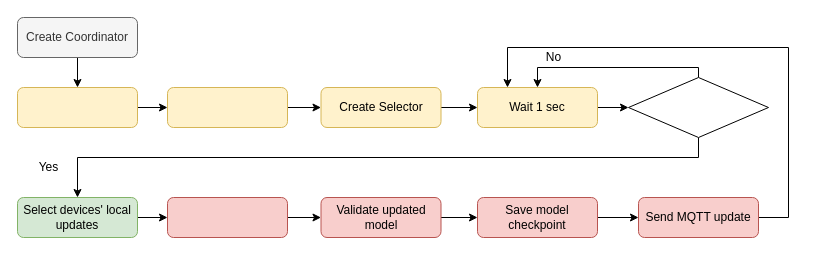
Some shapes in this 814 by 255 pixel diagram are drawn without their labels. The shapes that lost their labels are listed below. From the top down, each one's centre as x and y in pixels, then its label:
(77,107): Init model with last checkpoint or random
(227,107): Create Aggregator
(698,107): Is aggregation time?
(227,217): Aggregate updates
